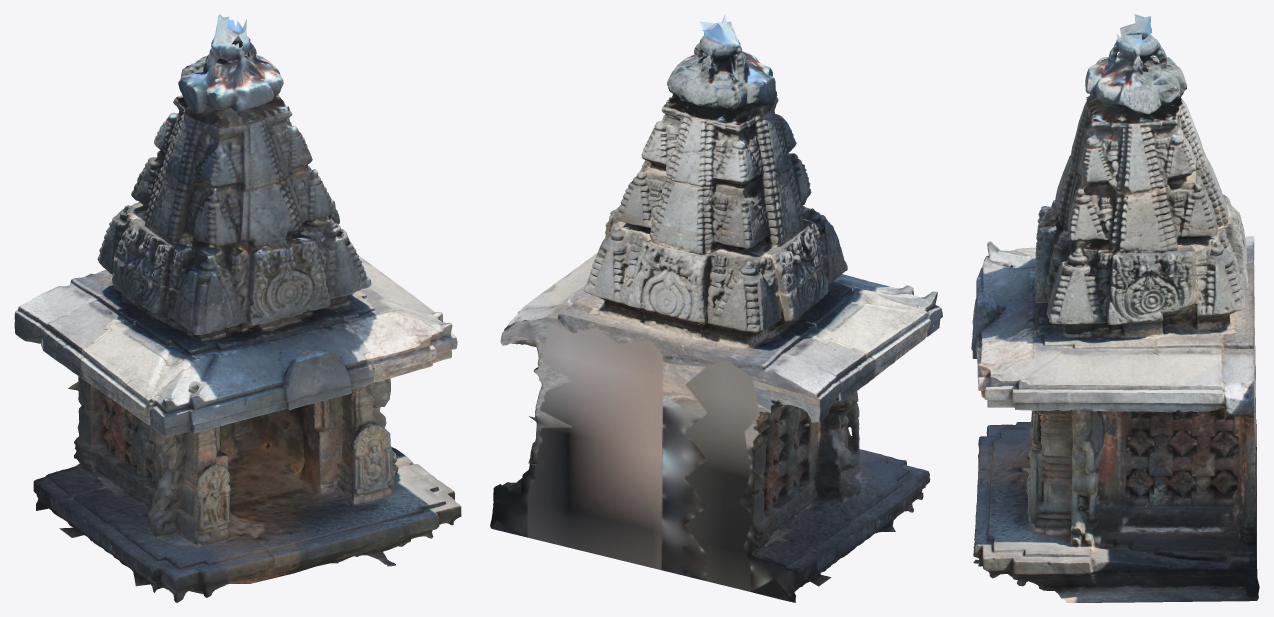
The model's file is shikhara.glb.
3 views of the same model, side by side, from view 1: azimuth 30°, elevation 25°; view 2: azimuth 150°, elevation 25°; view 3: azimuth 270°, elevation 25° (orthographic).
Parts seen in each view (by area): view 1: Object_2, Object_3; view 2: Object_2, Object_3, Object_4; view 3: Object_3, Object_2.
Boxes of the visible parts, box(x1,y1,x2,y2) form: Object_2: box(14, 14, 457, 602); Object_3: box(14, 205, 461, 573); Object_2: box(515, 14, 930, 587); Object_3: box(490, 205, 942, 602); Object_4: box(584, 144, 808, 298); Object_3: box(971, 200, 1259, 602); Object_2: box(972, 14, 1255, 486).
Bounding box in the file's own units: 18.85 × 28.22 × 14.52.
Materials: 1 (1 with a texture image).
